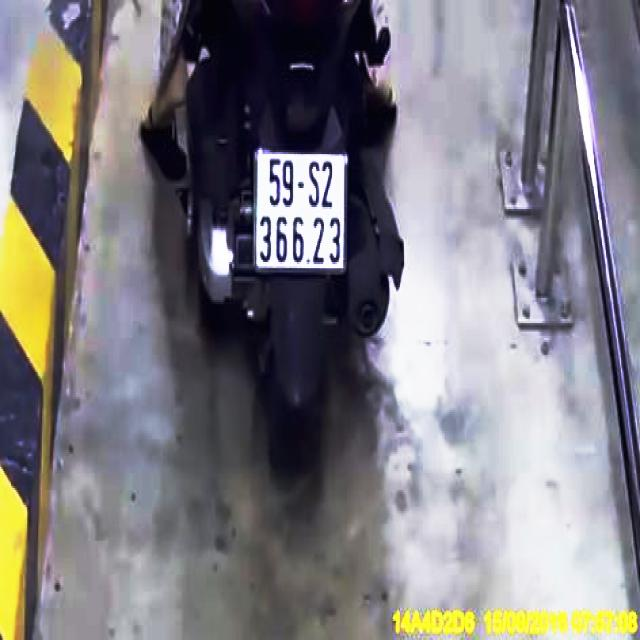license_plate: (256, 150, 348, 270)
